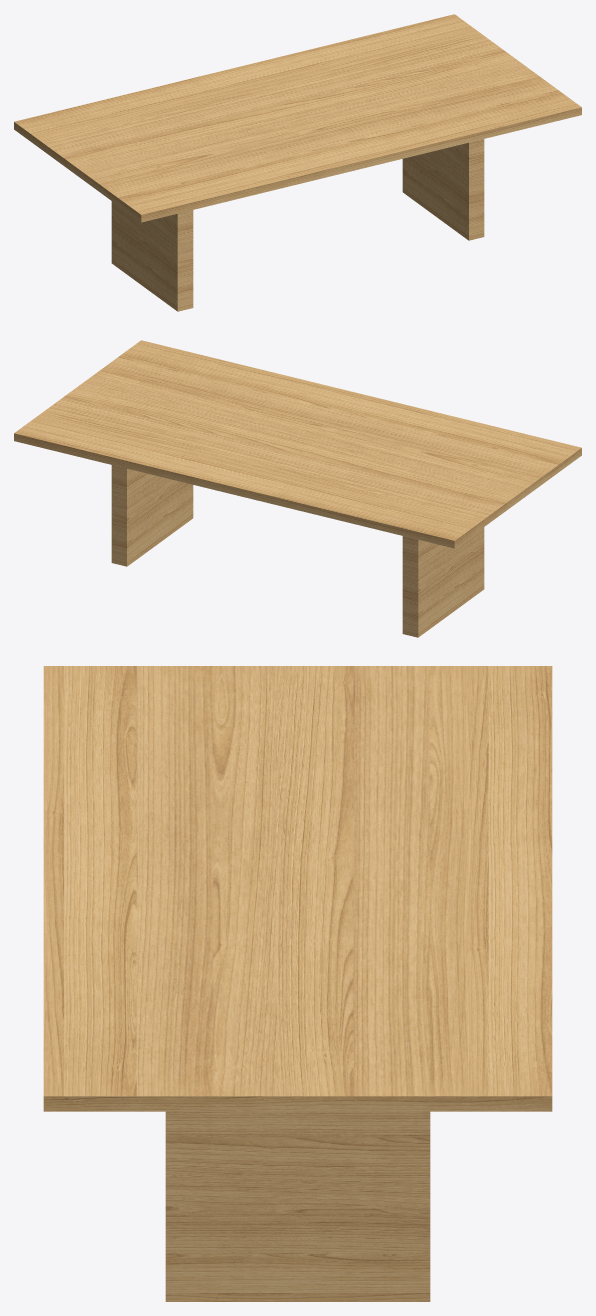
File: Table 5500-75.obj
3 renders of one model, top to bottom at view 1: azimuth 30°, elevation 25°; view 2: azimuth 150°, elevation 25°; view 3: azimuth 270°, elevation 25°, orthographic. The views are drawn at different scales.
Parts seen in each view (by area): view 1: 3_SCALE_ME, 3_SCALE_02; view 2: 3_SCALE_ME, 3_SCALE_02; view 3: 3_SCALE_ME, 3_SCALE_02.
Part boxes in pixels (<box>): 3_SCALE_ME: <box>14,14,581,222</box>; 3_SCALE_02: <box>111,139,484,311</box>; 3_SCALE_ME: <box>14,340,581,548</box>; 3_SCALE_02: <box>111,465,484,637</box>; 3_SCALE_ME: <box>43,666,552,1111</box>; 3_SCALE_02: <box>165,1111,430,1301</box>.
Bounding box in the file's own units: 63500 × 18796 × 31750.
